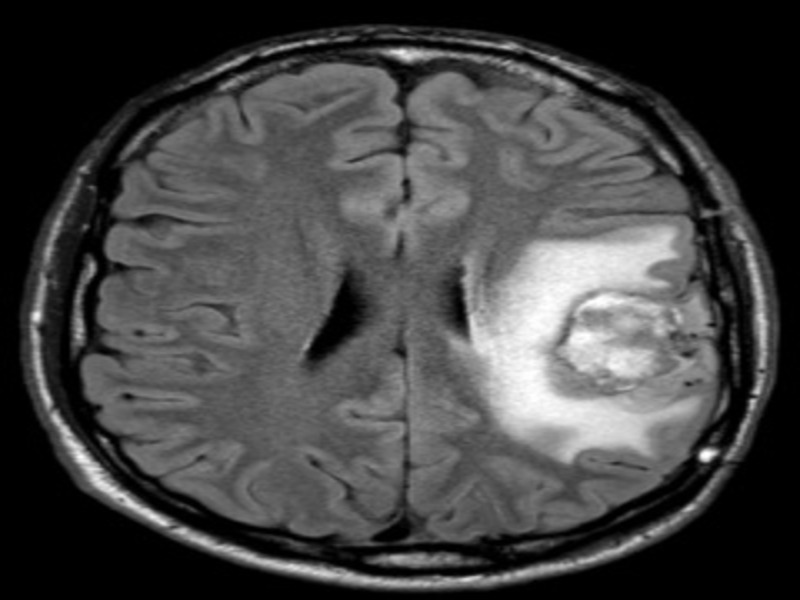tumor: (471, 219, 718, 438)
